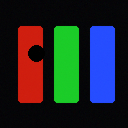2 circle: (28, 45, 44, 61)
